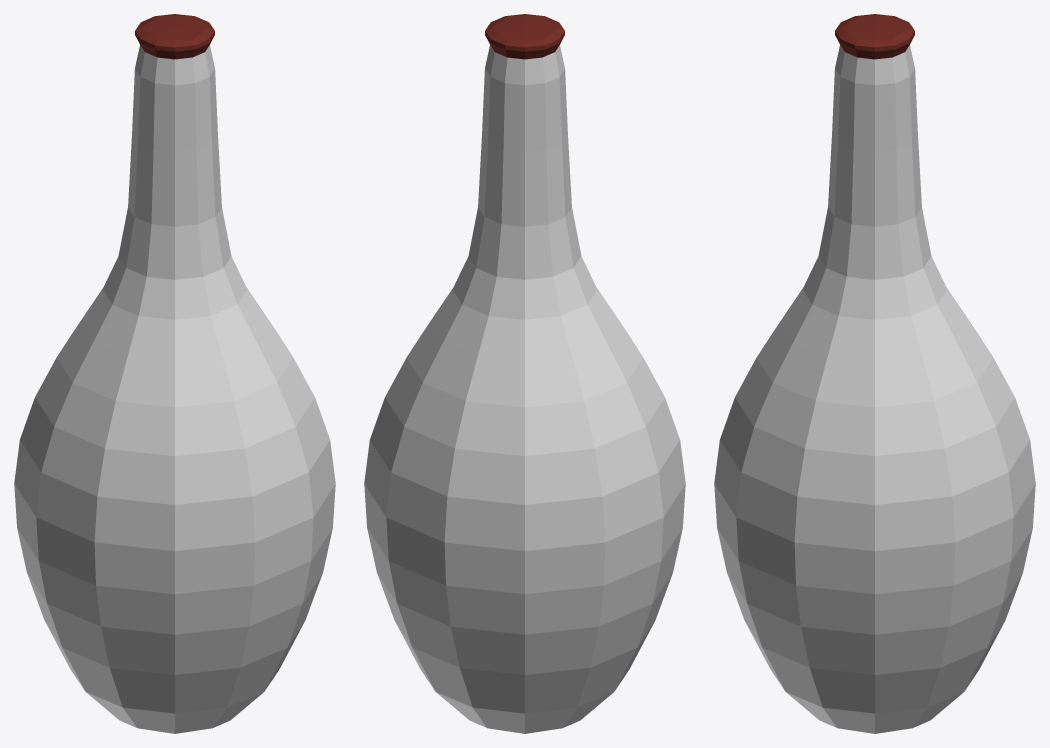
File: health_potion.glb
The picture shows the model from 3 angles, left to right: view 1: azimuth 30°, elevation 25°; view 2: azimuth 150°, elevation 25°; view 3: azimuth 270°, elevation 25°; orthographic projection.
Visible parts, largest first — view 1: Circle, Circle.002; view 2: Circle, Circle.002; view 3: Circle, Circle.002.
Boxes of the visible parts, <box> form: Circle: <box>14,45,335,733</box>; Circle.002: <box>135,14,214,59</box>; Circle: <box>364,45,685,733</box>; Circle.002: <box>485,14,564,59</box>; Circle: <box>714,45,1035,733</box>; Circle.002: <box>835,14,914,59</box>.
Bounding box in the file's own units: 1.13 × 2.71 × 1.13.
